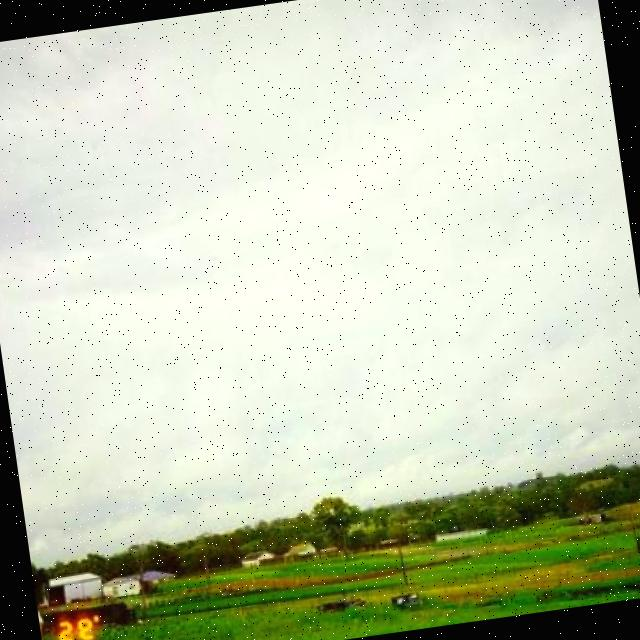St: (1, 1, 640, 430)
